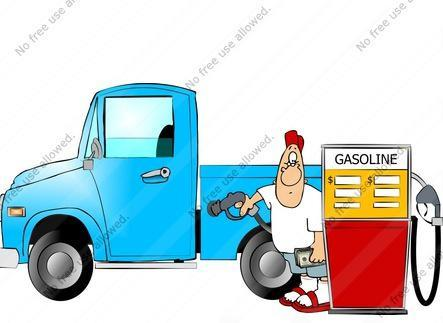car: (1, 79, 332, 307)
person: (237, 126, 332, 315)
